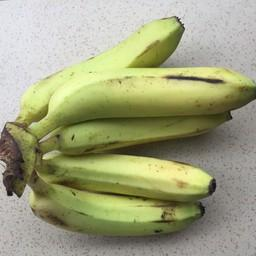Good_banana: (8, 12, 256, 237)
